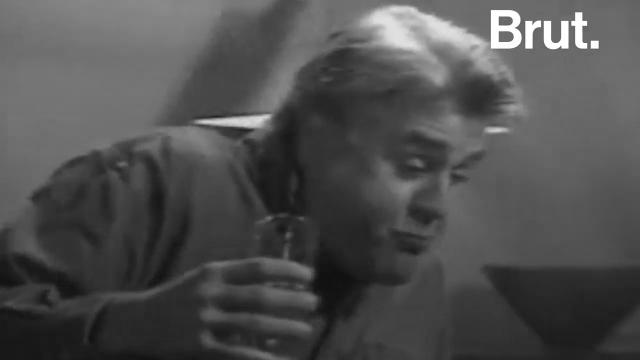spit: (341, 36, 571, 326)
